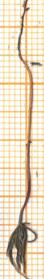flower: (0, 217, 42, 279)
root: (15, 0, 32, 66)
stem: (19, 65, 36, 219)
